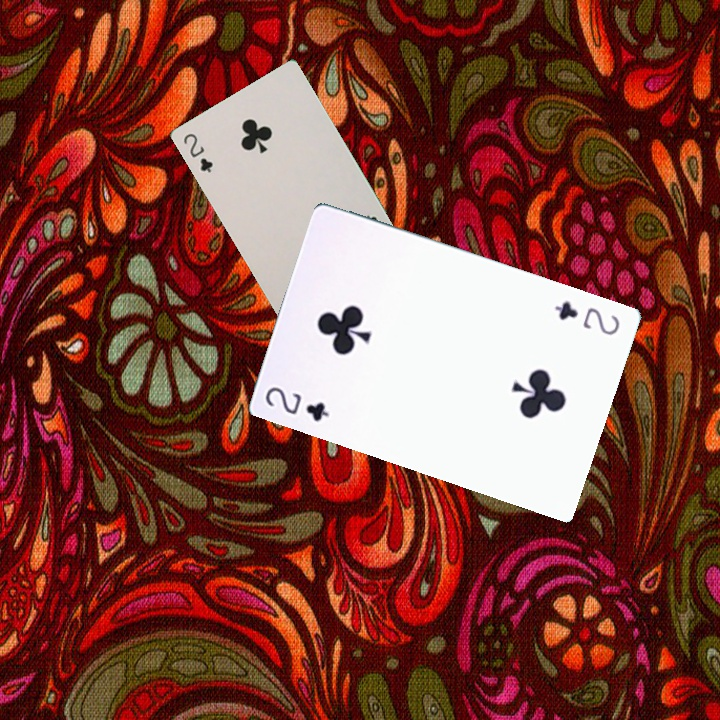2c: (550, 297, 623, 338), (261, 382, 332, 424), (179, 129, 215, 175)
